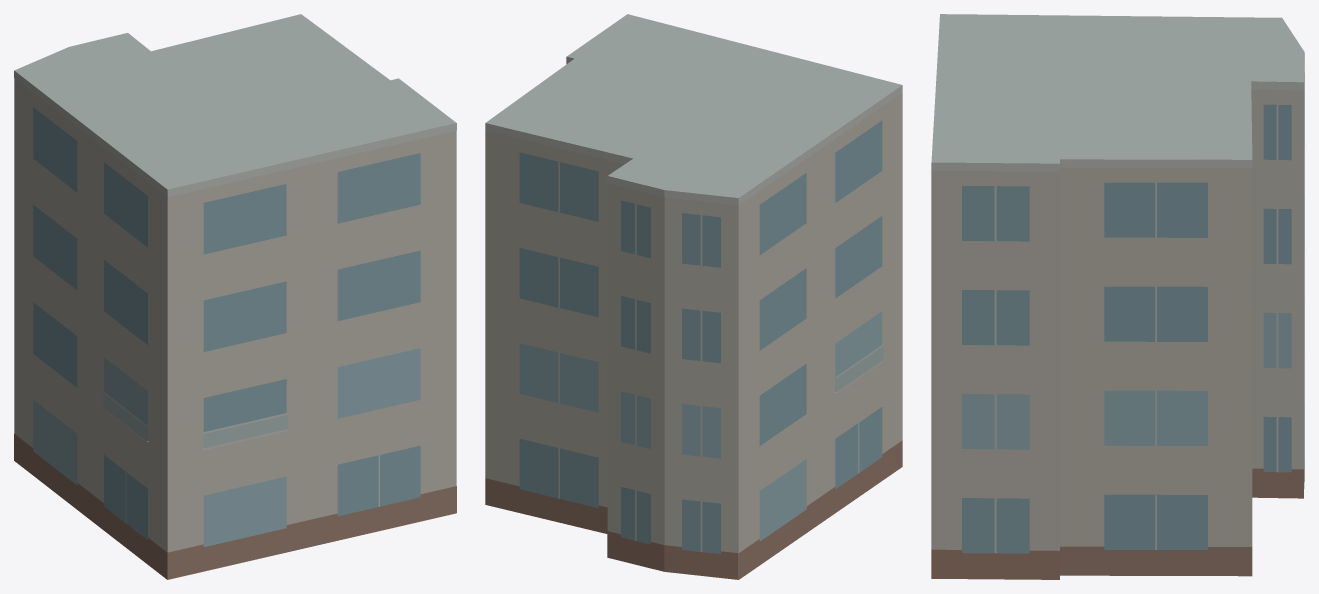
Rendered from survey-upis-32736772.glb.
The picture shows the model from 3 angles, left to right: view 1: azimuth 30°, elevation 25°; view 2: azimuth 150°, elevation 25°; view 3: azimuth 270°, elevation 25°; orthographic projection. The views are drawn at different scales.
Parts seen in each view (by area): view 1: survey-upis-32736772.tmp; view 2: survey-upis-32736772.tmp; view 3: survey-upis-32736772.tmp.
Part boxes in pixels (x1,y1,x2,y2): survey-upis-32736772.tmp: [14, 14, 456, 579]; survey-upis-32736772.tmp: [485, 14, 902, 579]; survey-upis-32736772.tmp: [931, 14, 1304, 579].
Size of the model in its own units: 9.65 by 12.5 by 10.17.
